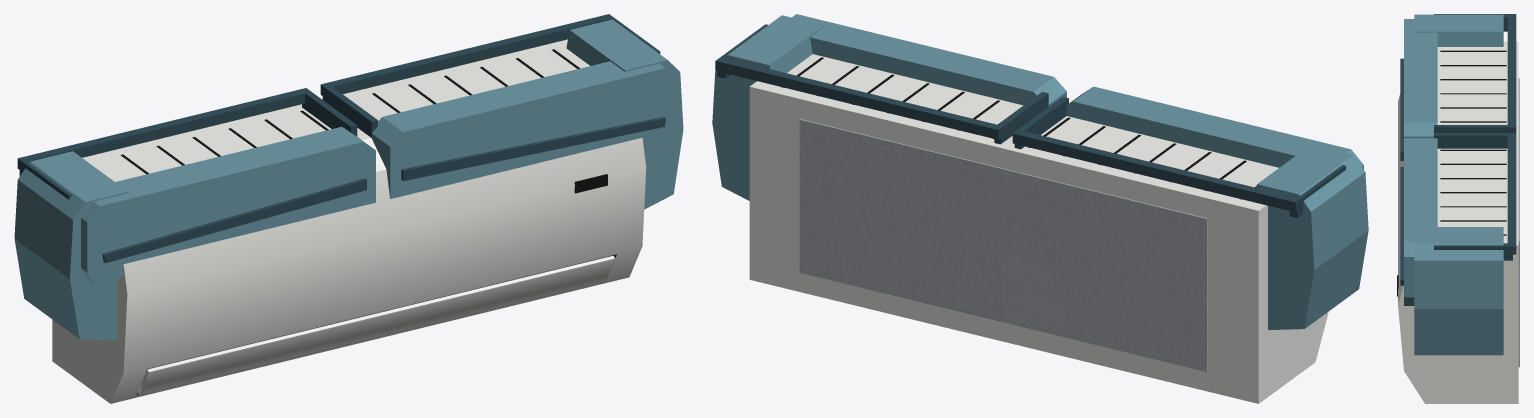
3 views of the same model, side by side, from view 1: azimuth 30°, elevation 25°; view 2: azimuth 150°, elevation 25°; view 3: azimuth 270°, elevation 25° (orthographic). The views are drawn at different scales.
Visible parts, largest first — view 1: wall-ac-body, wall-ac-right-intake-fascia, wall-ac-left-intake-fascia, wall-ac-left-intake-shoulder, wall-ac-louver, wall-ac-left-intake-rim, wall-ac-right-intake-shoulder, wall-ac-right-intake-rim, wall-ac-left-fascia-brow, wall-ac-right-fascia-brow, wall-ac-intake; view 2: wall-ac-mount, wall-ac-body, wall-ac-left-intake-shoulder, wall-ac-right-intake-fascia, wall-ac-left-intake-fascia, wall-ac-right-intake-shoulder, wall-ac-left-intake-rim, wall-ac-right-intake-rim, wall-ac-intake; view 3: wall-ac-body, wall-ac-right-intake-shoulder, wall-ac-right-intake-fascia, wall-ac-left-intake-fascia, wall-ac-right-intake-rim, wall-ac-left-intake-shoulder, wall-ac-left-intake-rim, wall-ac-intake, wall-ac-mount, wall-ac-right-fascia-brow, wall-ac-left-fascia-brow.
Boxes of the visible parts, x1=… form: wall-ac-body: x1=52, y1=39, x2=646, y2=403; wall-ac-right-intake-fascia: x1=371, y1=61, x2=678, y2=198; wall-ac-left-intake-fascia: x1=81, y1=126, x2=375, y2=284; wall-ac-left-intake-shoulder: x1=14, y1=151, x2=128, y2=340; wall-ac-louver: x1=138, y1=256, x2=614, y2=394; wall-ac-left-intake-rim: x1=17, y1=88, x2=357, y2=199; wall-ac-right-intake-shoulder: x1=566, y1=19, x2=683, y2=209; wall-ac-right-intake-rim: x1=320, y1=14, x2=660, y2=137; wall-ac-left-fascia-brow: x1=102, y1=178, x2=366, y2=262; wall-ac-right-fascia-brow: x1=401, y1=117, x2=665, y2=180; wall-ac-intake: x1=120, y1=49, x2=580, y2=174; wall-ac-mount: x1=799, y1=119, x2=1207, y2=371; wall-ac-body: x1=749, y1=54, x2=1328, y2=403; wall-ac-left-intake-shoulder: x1=1256, y1=144, x2=1368, y2=330; wall-ac-right-intake-fascia: x1=792, y1=14, x2=1066, y2=106; wall-ac-left-intake-fascia: x1=1066, y1=86, x2=1363, y2=169; wall-ac-right-intake-shoulder: x1=712, y1=15, x2=823, y2=200; wall-ac-left-intake-rim: x1=1012, y1=97, x2=1345, y2=218; wall-ac-right-intake-rim: x1=715, y1=24, x2=1048, y2=144; wall-ac-intake: x1=781, y1=57, x2=1256, y2=199; wall-ac-body: x1=1398, y1=41, x2=1518, y2=403; wall-ac-right-intake-shoulder: x1=1414, y1=227, x2=1503, y2=355; wall-ac-right-intake-fascia: x1=1404, y1=138, x2=1437, y2=305; wall-ac-left-intake-fascia: x1=1404, y1=19, x2=1437, y2=138; wall-ac-right-intake-rim: x1=1434, y1=133, x2=1516, y2=260; wall-ac-left-intake-shoulder: x1=1414, y1=14, x2=1503, y2=46; wall-ac-left-intake-rim: x1=1434, y1=14, x2=1516, y2=132; wall-ac-intake: x1=1440, y1=50, x2=1506, y2=235; wall-ac-mount: x1=1518, y1=78, x2=1519, y2=367; wall-ac-right-fascia-brow: x1=1400, y1=167, x2=1403, y2=285; wall-ac-left-fascia-brow: x1=1400, y1=58, x2=1403, y2=160.
Bounding box in the file's own units: 0.946 × 0.316 × 0.2035.
8 materials, 4 textured.
